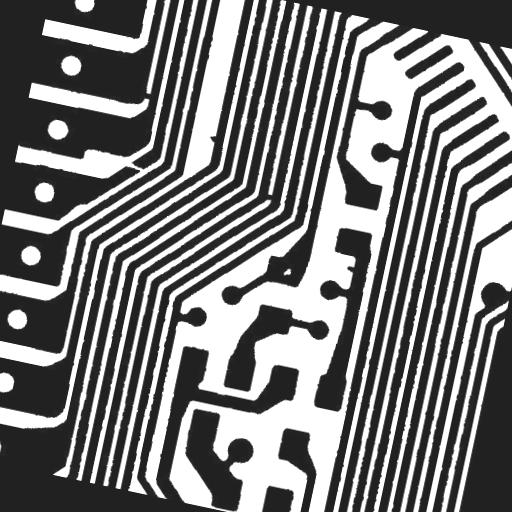open: (113, 151, 153, 180)
pin-hole: (274, 258, 300, 284)
short: (132, 82, 162, 108), (254, 184, 283, 210)
spur: (337, 256, 366, 282), (199, 126, 226, 152)
